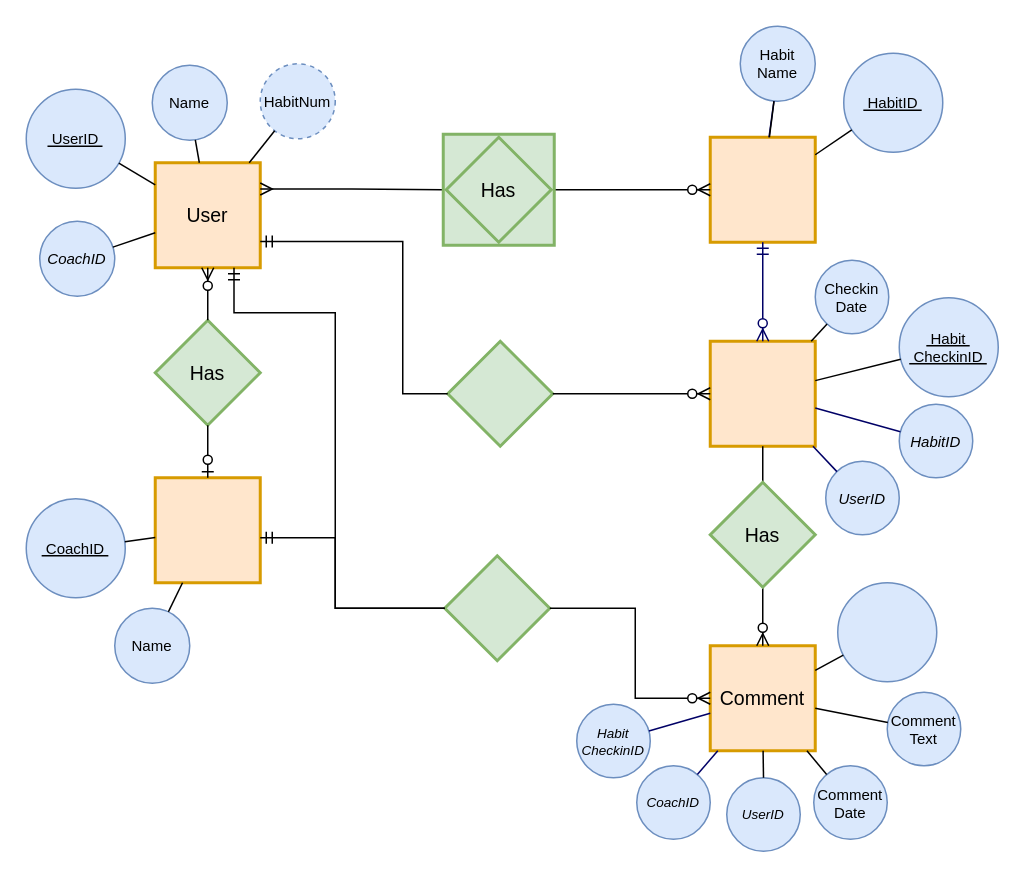
The diagram is 1025 pixels wide and 878 high, and some of its shapes have lost their labels. Here are the shapes that lost their labels. From the top down, the centre of each, then its label:
At point 762,189: "Habit".
At point 500,393: "Does".
At point 762,393: "Checkin".
At point 207,530: "Coach".
At point 496,608: "Writes".
At point 886,631: "CommentID".
